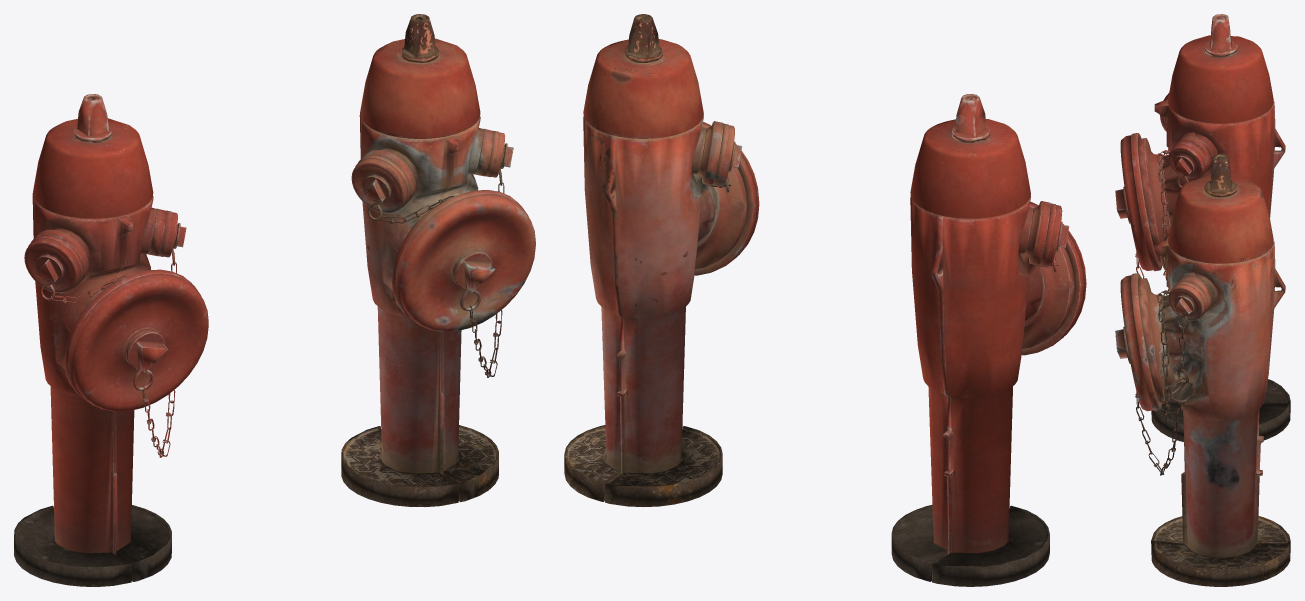
Rendered from fire_hydrant.glb.
The picture shows the model from 3 angles, left to right: view 1: azimuth 30°, elevation 25°; view 2: azimuth 150°, elevation 25°; view 3: azimuth 270°, elevation 25°; orthographic projection. The views are drawn at different scales.
Parts seen in each view (by area): view 1: fire_hydrant, fire_hydrant_aged, fire_hydrant_cap_01, fire_hydrant_cap_01_aged, fire_hydrant_cap_03, fire_hydrant_cap_03_aged, fire_hydrant_chain, fire_hydrant_chain_aged, fire_hydrant_cap_02, fire_hydrant_cap_02_aged; view 2: fire_hydrant, fire_hydrant_aged, fire_hydrant_cap_01, fire_hydrant_cap_01_aged, fire_hydrant_cap_03_aged, fire_hydrant_cap_03; view 3: fire_hydrant_aged, fire_hydrant, fire_hydrant_cap_01, fire_hydrant_cap_01_aged, fire_hydrant_chain_aged, fire_hydrant_cap_02_aged, fire_hydrant_cap_02, fire_hydrant_chain.
Part boxes in pixels (x1,y1,x2,y2): fire_hydrant: (14,94,171,586); fire_hydrant_aged: (341,14,498,506); fire_hydrant_cap_01: (64,269,208,411); fire_hydrant_cap_01_aged: (391,190,535,331); fire_hydrant_cap_03: (24,235,83,293); fire_hydrant_cap_03_aged: (351,155,410,213); fire_hydrant_chain: (40,224,177,457); fire_hydrant_chain_aged: (367,145,504,377); fire_hydrant_cap_02: (158,210,186,257); fire_hydrant_cap_02_aged: (485,130,513,177); fire_hydrant: (891,94,1074,586); fire_hydrant_aged: (564,14,747,507); fire_hydrant_cap_01: (1021,201,1086,355); fire_hydrant_cap_01_aged: (694,122,759,275); fire_hydrant_cap_03_aged: (712,123,741,186); fire_hydrant_cap_03: (1039,203,1069,266); fire_hydrant_aged: (1138,154,1290,586); fire_hydrant: (1138,14,1290,441); fire_hydrant_cap_01: (1115,133,1161,271); fire_hydrant_cap_01_aged: (1115,273,1161,411); fire_hydrant_chain_aged: (1135,289,1195,475); fire_hydrant_cap_02_aged: (1168,281,1208,320); fire_hydrant_cap_02: (1168,141,1208,180); fire_hydrant_chain: (1135,149,1193,280).
Bounding box in the file's own units: 0.8746 × 0.7994 × 0.3173.
Materials: 2 (2 with a texture image).
